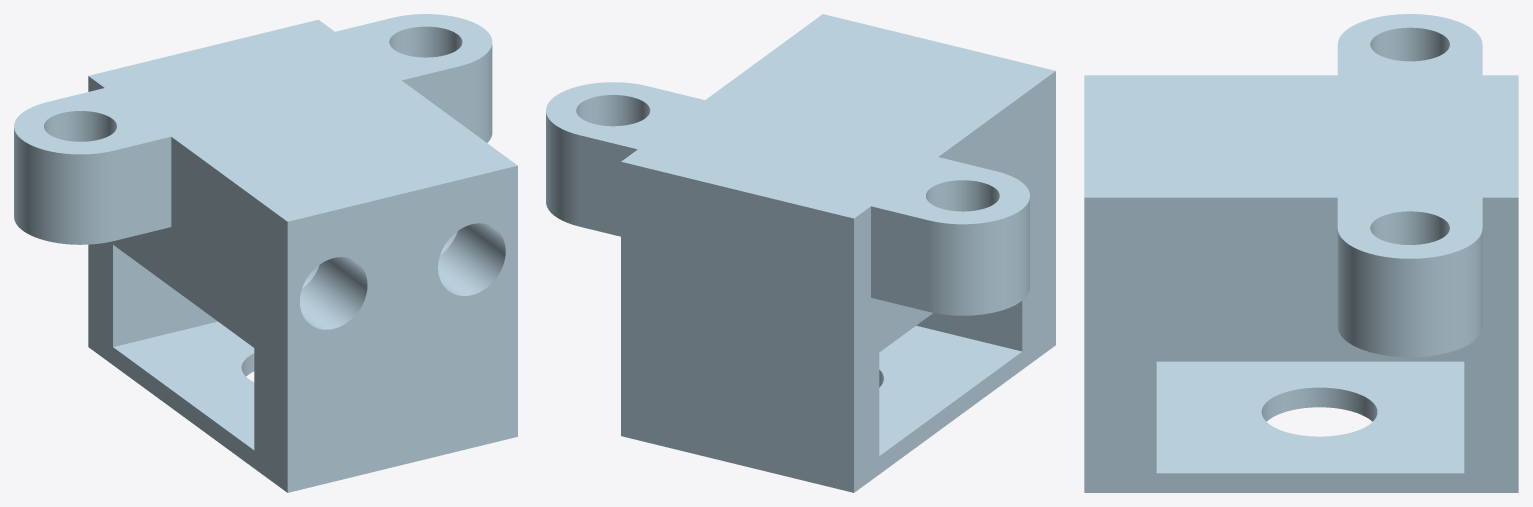
3 views of the same model, side by side, from view 1: azimuth 30°, elevation 25°; view 2: azimuth 150°, elevation 25°; view 3: azimuth 270°, elevation 25° (orthographic). The views are drawn at different scales.
Visible parts, largest first — view 1: mesh300, mesh322, mesh318, mesh321, mesh306, mesh307, mesh320, mesh299, mesh301, mesh315, mesh317, mesh324 (+1 smaller); view 2: mesh304, mesh322, mesh318, mesh306, mesh321, mesh319, mesh314, mesh315, mesh308, mesh324, mesh317; view 3: mesh312, mesh322, mesh306, mesh315, mesh305, mesh324, mesh317.
Part boxes in pixels (x1,y1,x2,y2): mesh300: [287, 165, 517, 492]; mesh322: [14, 14, 517, 221]; mesh318: [88, 76, 287, 492]; mesh321: [14, 128, 113, 244]; mesh306: [113, 321, 254, 449]; mesh307: [113, 245, 217, 346]; mesh320: [113, 137, 171, 240]; mesh299: [438, 223, 505, 295]; mesh301: [300, 257, 367, 329]; mesh315: [459, 44, 492, 142]; mesh317: [389, 26, 462, 57]; mesh324: [44, 111, 116, 141]; mesh304: [621, 162, 853, 492]; mesh322: [546, 14, 1055, 224]; mesh318: [854, 71, 1055, 492]; mesh306: [879, 325, 1021, 455]; mesh321: [929, 198, 1029, 315]; mesh319: [871, 206, 929, 311]; mesh314: [579, 135, 637, 236]; mesh315: [546, 113, 579, 226]; mesh308: [916, 301, 1022, 351]; mesh324: [926, 180, 999, 211]; mesh317: [576, 95, 650, 126]; mesh312: [1084, 197, 1518, 492]; mesh322: [1084, 14, 1518, 258]; mesh306: [1156, 361, 1464, 473]; mesh315: [1337, 229, 1482, 357]; mesh305: [1261, 387, 1377, 421]; mesh324: [1370, 27, 1449, 61]; mesh317: [1370, 211, 1449, 244].
Size of the model in its own units: 0.016 by 0.009 by 0.012.
